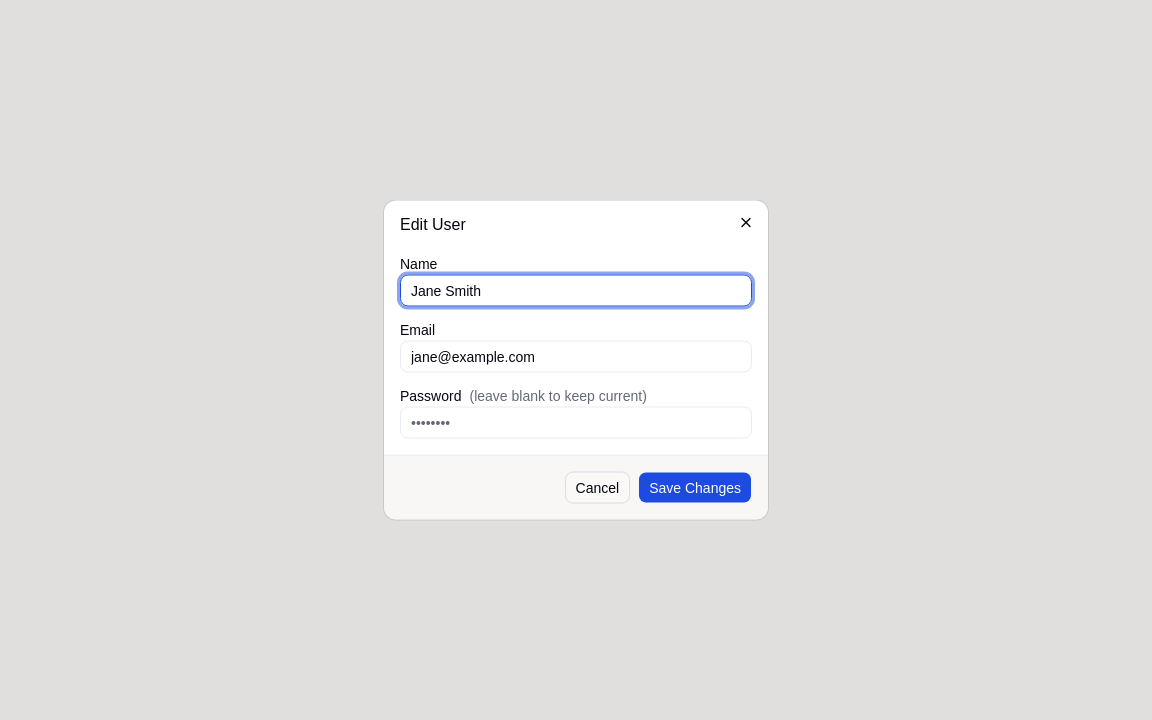
it: UserFormDialog (edit) — submission › shows server error message on failure
What coordinates should you click on to do the following:
click the button "Save Changes"
I would click on:
 (695, 488)
Its box is [638,472,752,504].
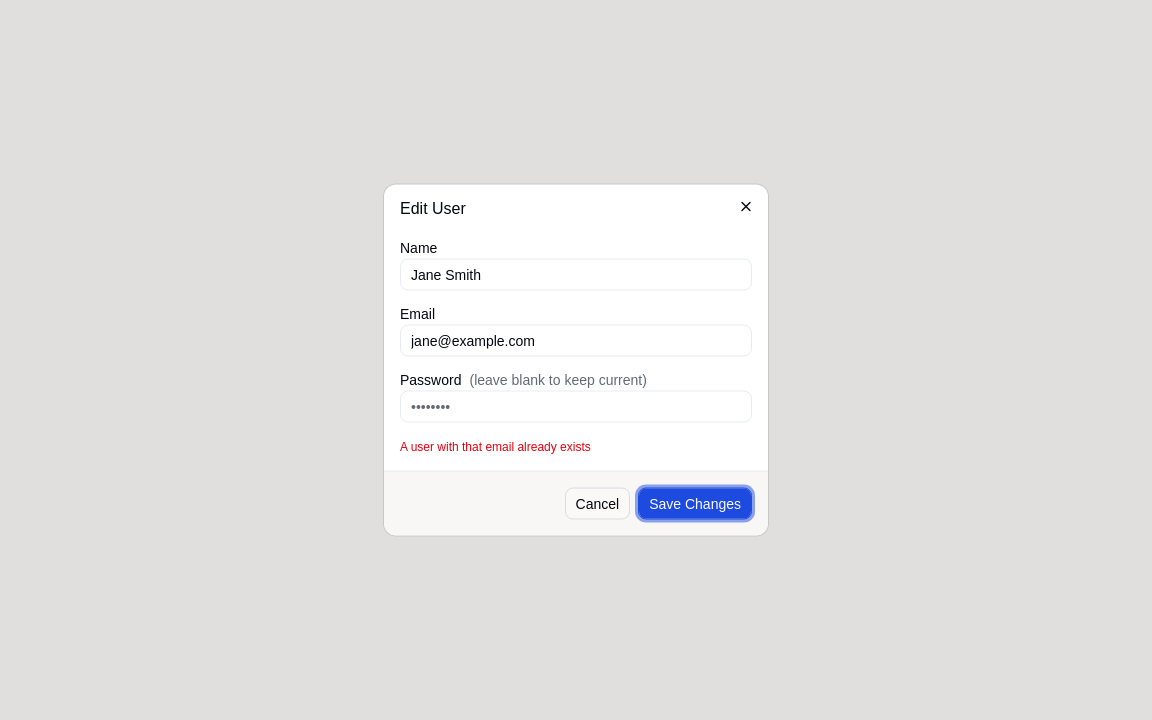
Now the text "A user with that email already exists" is shown, box [400,440,591,454]
